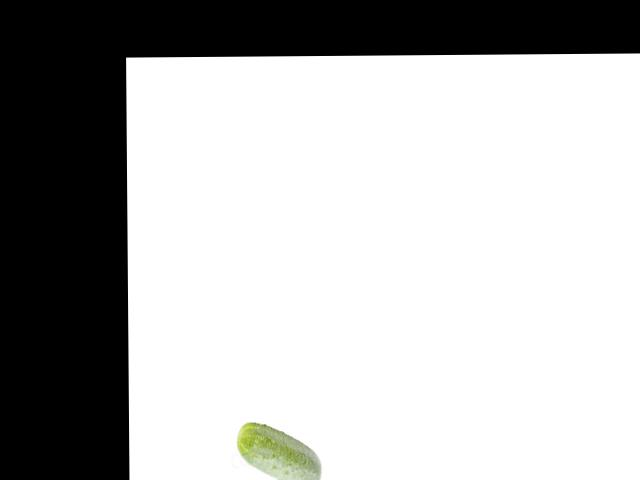cucumber: (237, 422, 322, 480)
